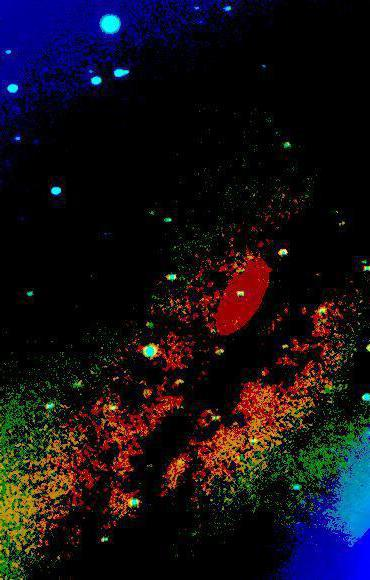star: (78, 257, 108, 287)
